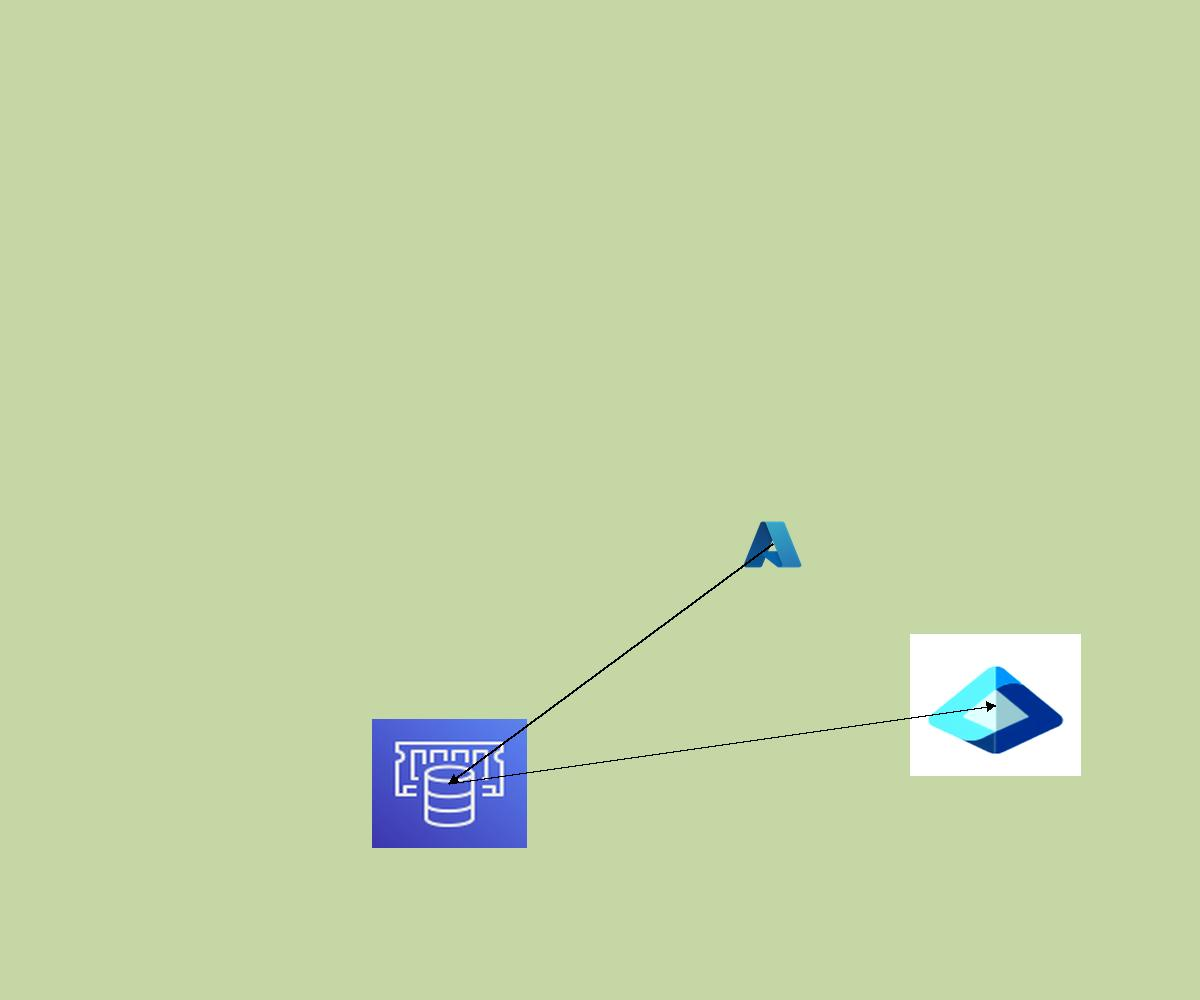AWS-ElastiCache: (372, 719, 527, 848)
Azure_microsoft_entra: (910, 634, 1081, 776)
Azure_services: (741, 518, 804, 571)
